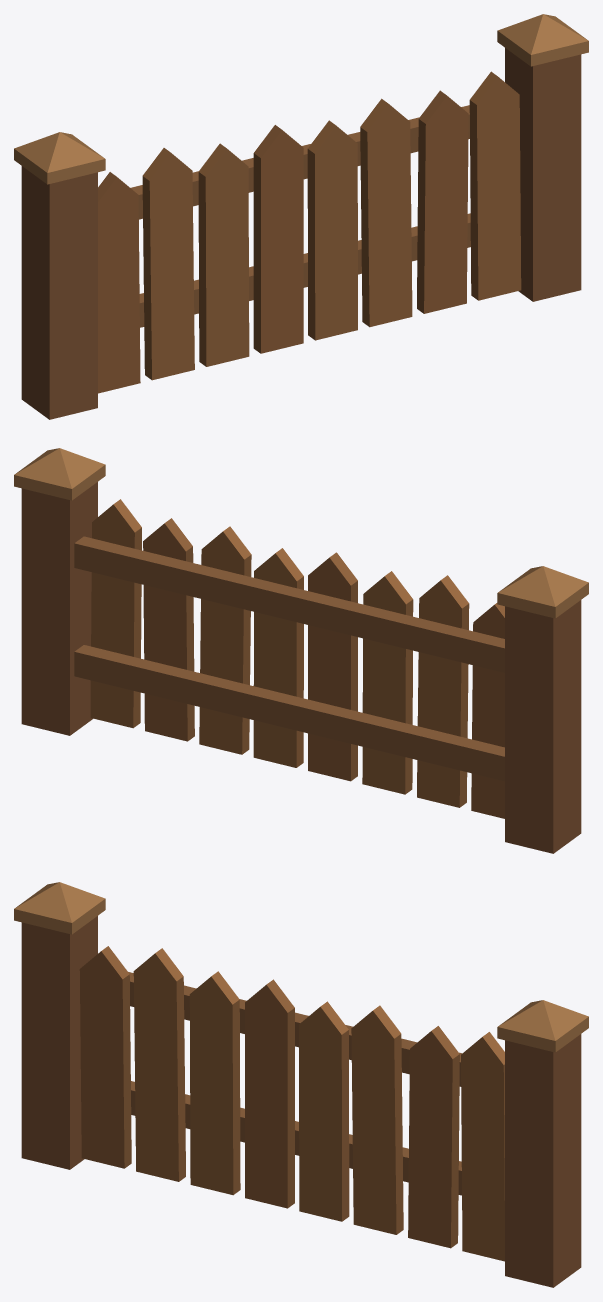
Rendered from fence_straight.fbx.
The picture shows the model from 3 angles, top to bottom: view 1: azimuth 30°, elevation 25°; view 2: azimuth 150°, elevation 25°; view 3: azimuth 330°, elevation 25°; orthographic projection.
Visible parts, largest first — view 1: fence_straight; view 2: fence_straight; view 3: fence_straight.
Part boxes in pixels (x1=…): fence_straight: x1=14, y1=14, x2=588, y2=419; fence_straight: x1=14, y1=448, x2=588, y2=853; fence_straight: x1=14, y1=882, x2=588, y2=1287.
Bounding box in the file's own units: 7.84 × 3.76 × 0.84.
